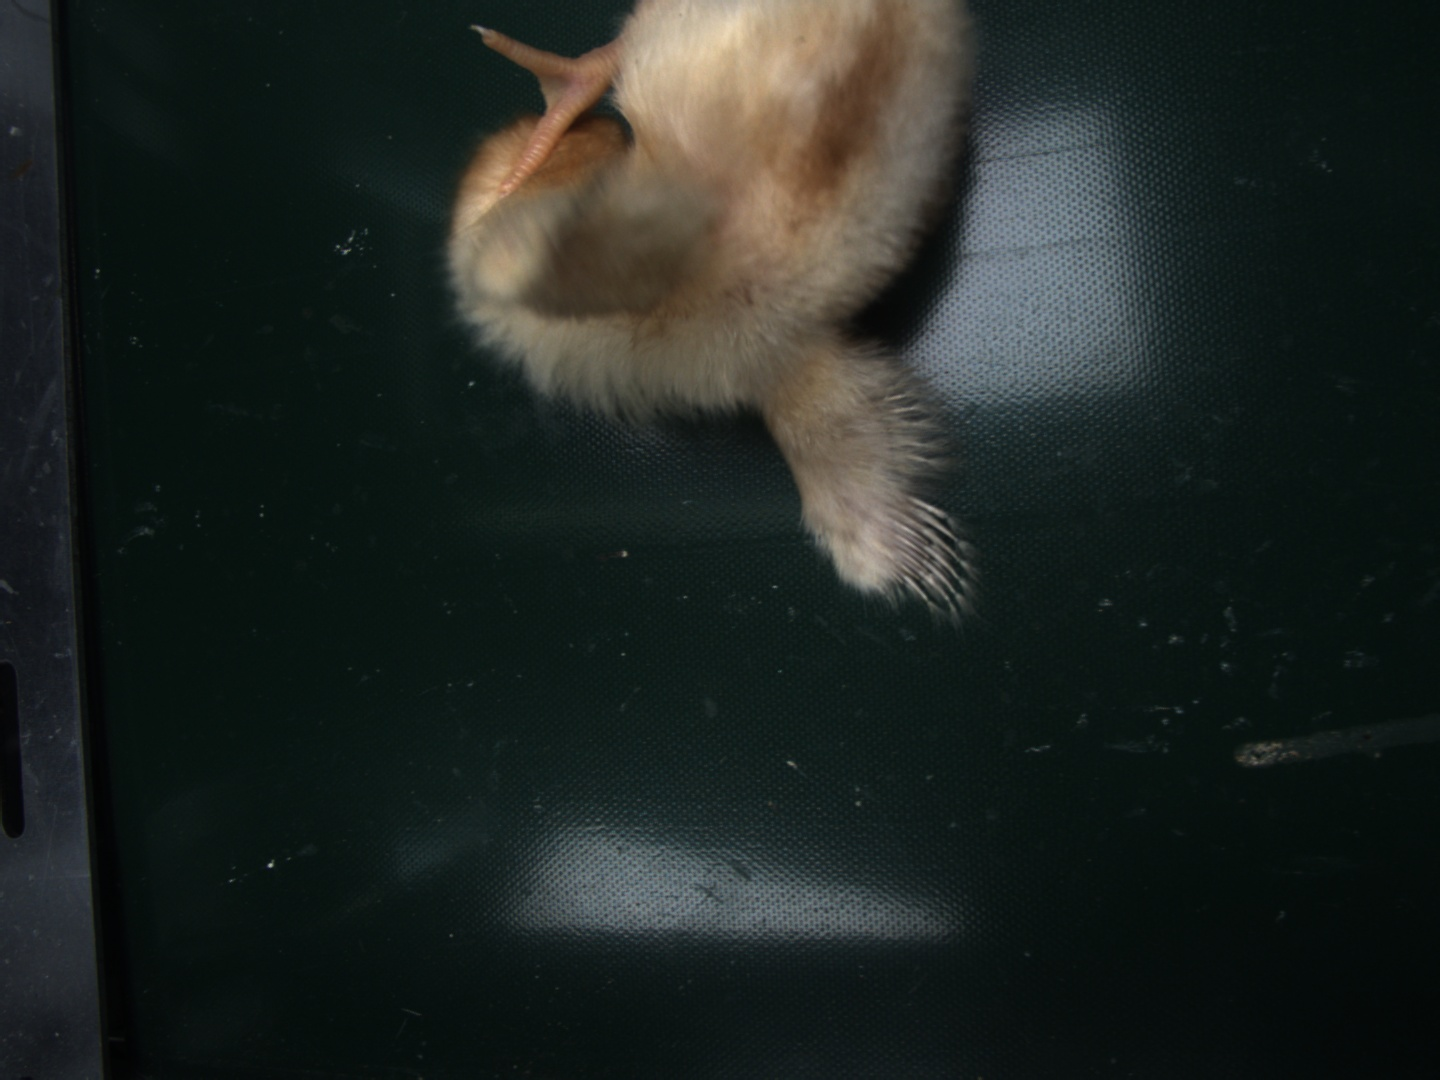female: (890, 496, 959, 609)
